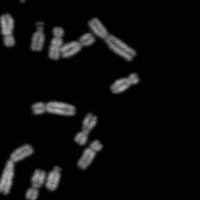chromosome: (88, 17, 135, 60), (0, 144, 33, 194), (61, 33, 94, 57), (77, 139, 102, 170), (74, 113, 96, 145), (32, 101, 76, 115), (110, 72, 139, 93), (26, 169, 45, 200), (48, 27, 63, 60), (0, 14, 14, 46), (30, 23, 45, 51), (45, 166, 60, 190), (8, 0, 28, 2)
